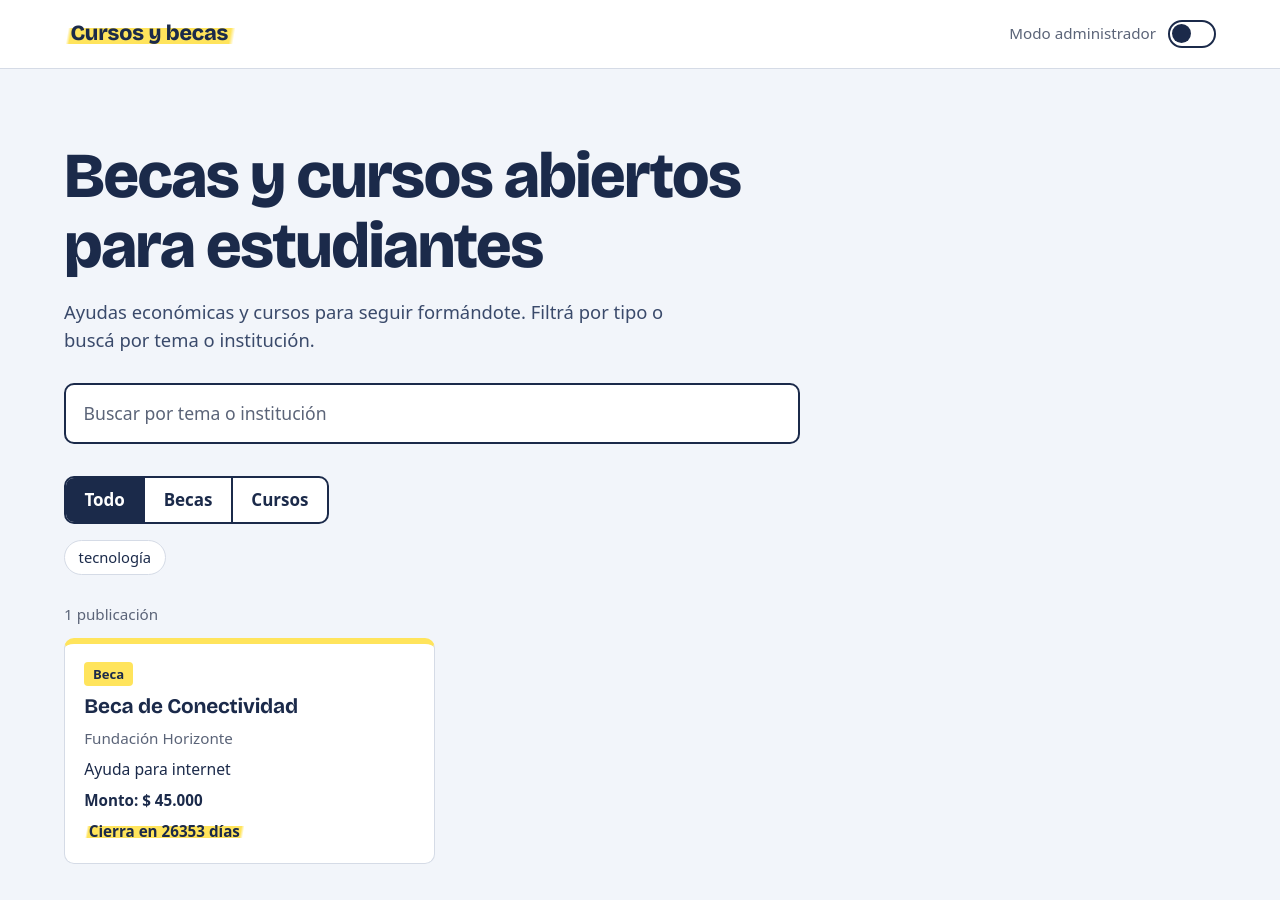
Galería › filtra por tipo con los botones
Expected: the link "Beca de Conectividad" is shown, [84, 694, 298, 720]
Click the button "Cursos" at (279, 500), box [231, 478, 327, 522]
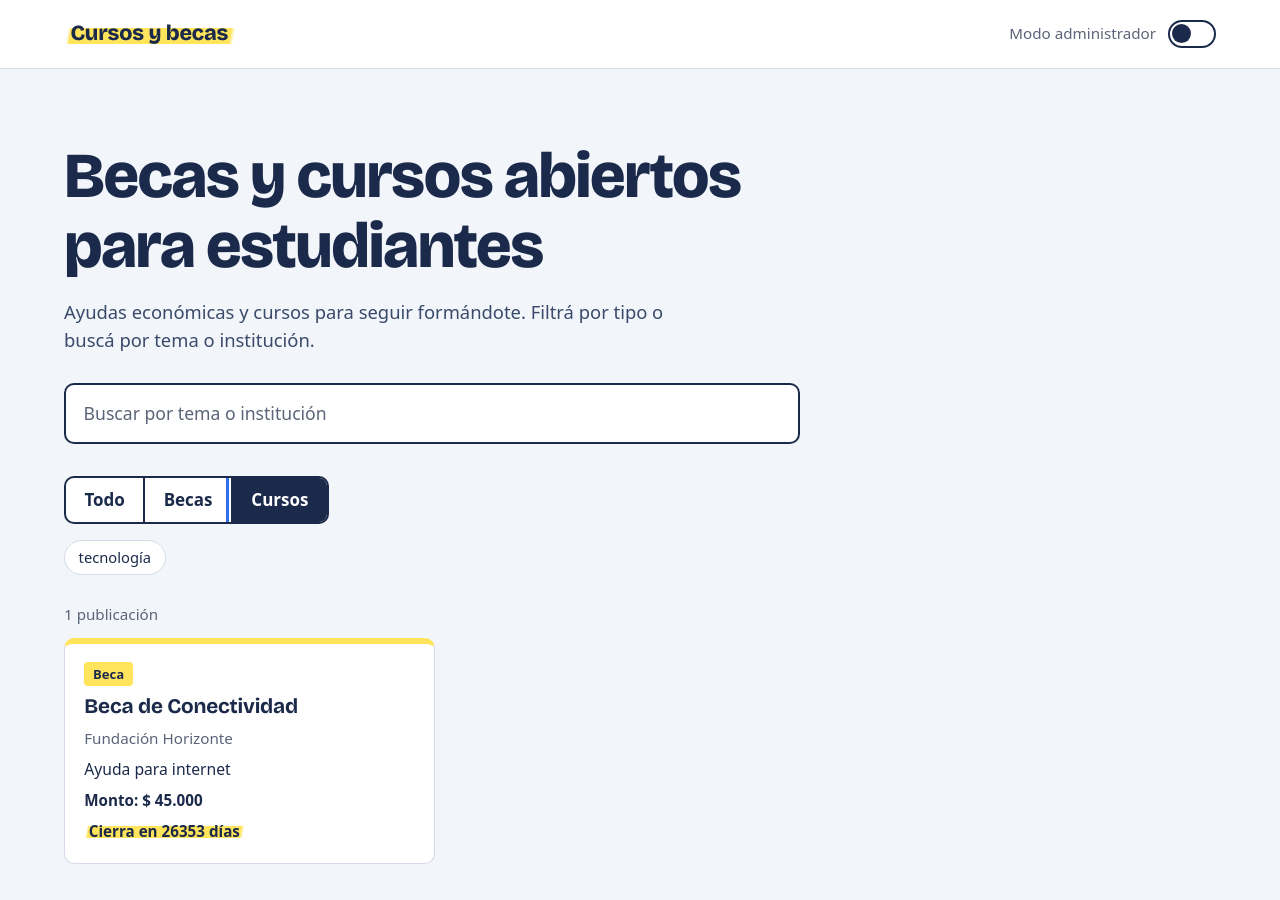
Result: the button "Cursos" is pressed at [231, 478, 327, 522]
